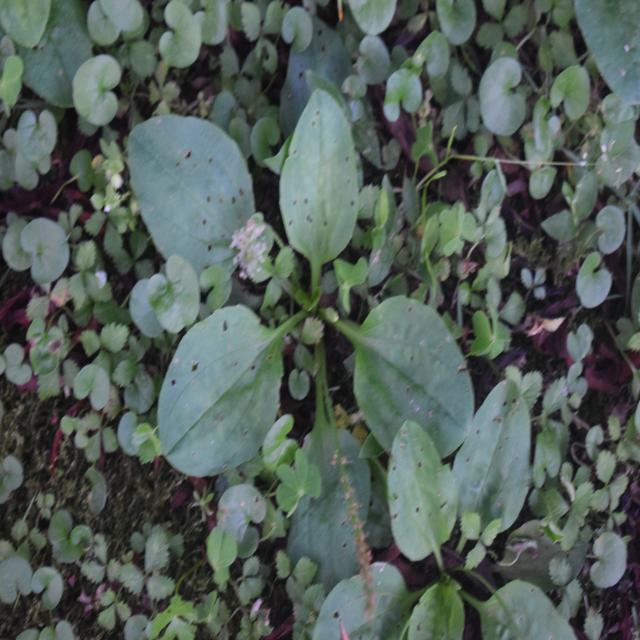plantain: (132, 108, 482, 487)
